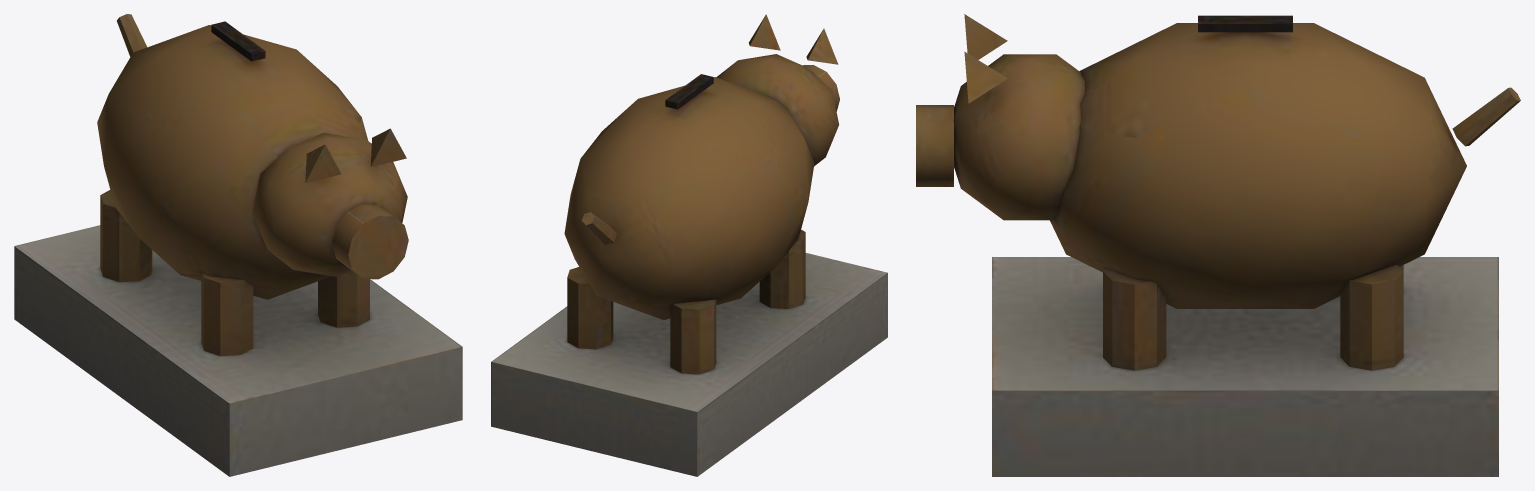
Rendered from cerdita_rachel.glb.
3 views of the same model, side by side, from view 1: azimuth 30°, elevation 25°; view 2: azimuth 150°, elevation 25°; view 3: azimuth 270°, elevation 25° (orthographic). The views are drawn at different scales.
Parts seen in each view (by area): view 1: cerdita_rachel; view 2: cerdita_rachel; view 3: cerdita_rachel.
Part boxes in pixels (<box>): cerdita_rachel: <box>14,14,462,476</box>; cerdita_rachel: <box>491,14,887,476</box>; cerdita_rachel: <box>916,14,1520,476</box>.
Bounding box in the file's own units: 1 × 1.36 × 1.91.
Materials: 1 (1 with a texture image).
